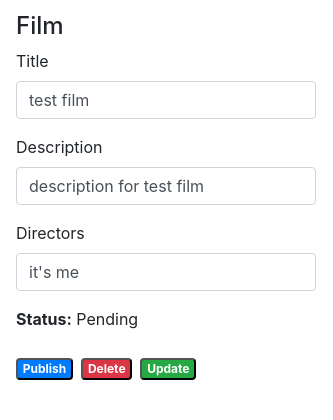
Test: Film.vue › update film description
This screenshot has width=333, height=420.
Click the button with id "updateFilm".
click(168, 369)  # box [140,358,196,380]
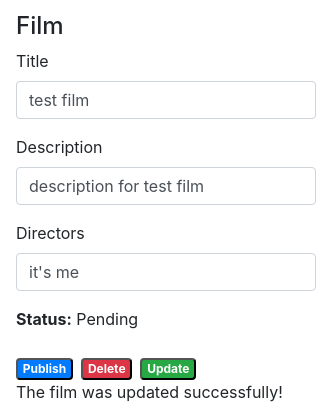
Expected: the text "The film was updated successfully!" is shown, [16,380,316,404]
